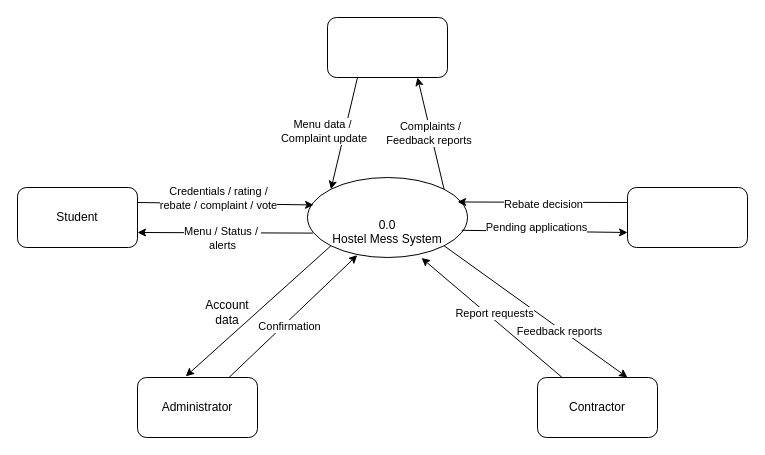
Image size: 765x455. Some labels were removed from this diagram. Each missing label, with the centre of its shape:
"Mess Committee" belongs at [387,47].
"Warden" belongs at [687,217].
